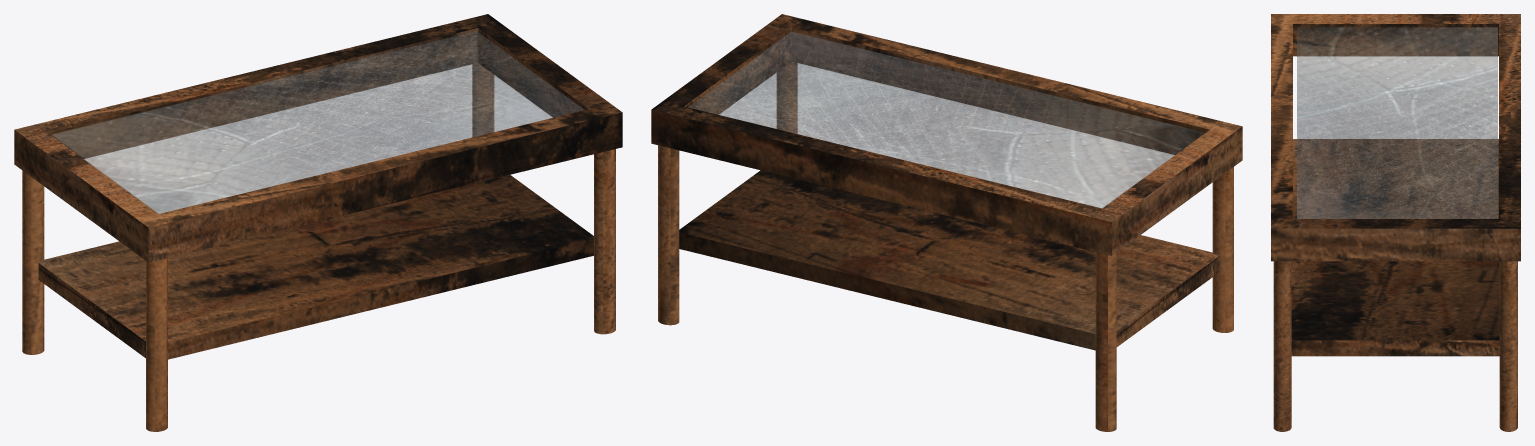
The model's file is coffee table.fbx.
3 views of the same model, side by side, from view 1: azimuth 30°, elevation 25°; view 2: azimuth 150°, elevation 25°; view 3: azimuth 270°, elevation 25° (orthographic). The views are drawn at different scales.
Parts seen in each view (by area): view 1: polySurface2, pCube2; view 2: polySurface2, pCube2; view 3: polySurface2, pCube2.
Boxes of the visible parts, box(x1,y1,x2,y2) form: polySurface2: box(14, 14, 622, 431); pCube2: box(52, 31, 583, 213); polySurface2: box(651, 14, 1242, 431); pCube2: box(688, 32, 1204, 208); polySurface2: box(1271, 14, 1520, 431); pCube2: box(1297, 27, 1497, 218).
Bounding box in the file's own units: 8.19 × 3.62 × 4.02.
2 materials, 2 textured.
